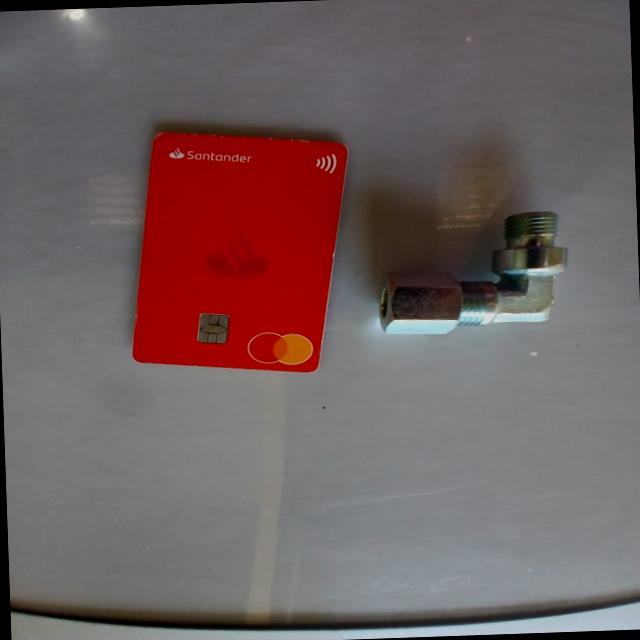cartao: (105, 124, 358, 382)
rosca_externa: (374, 212, 567, 334)
